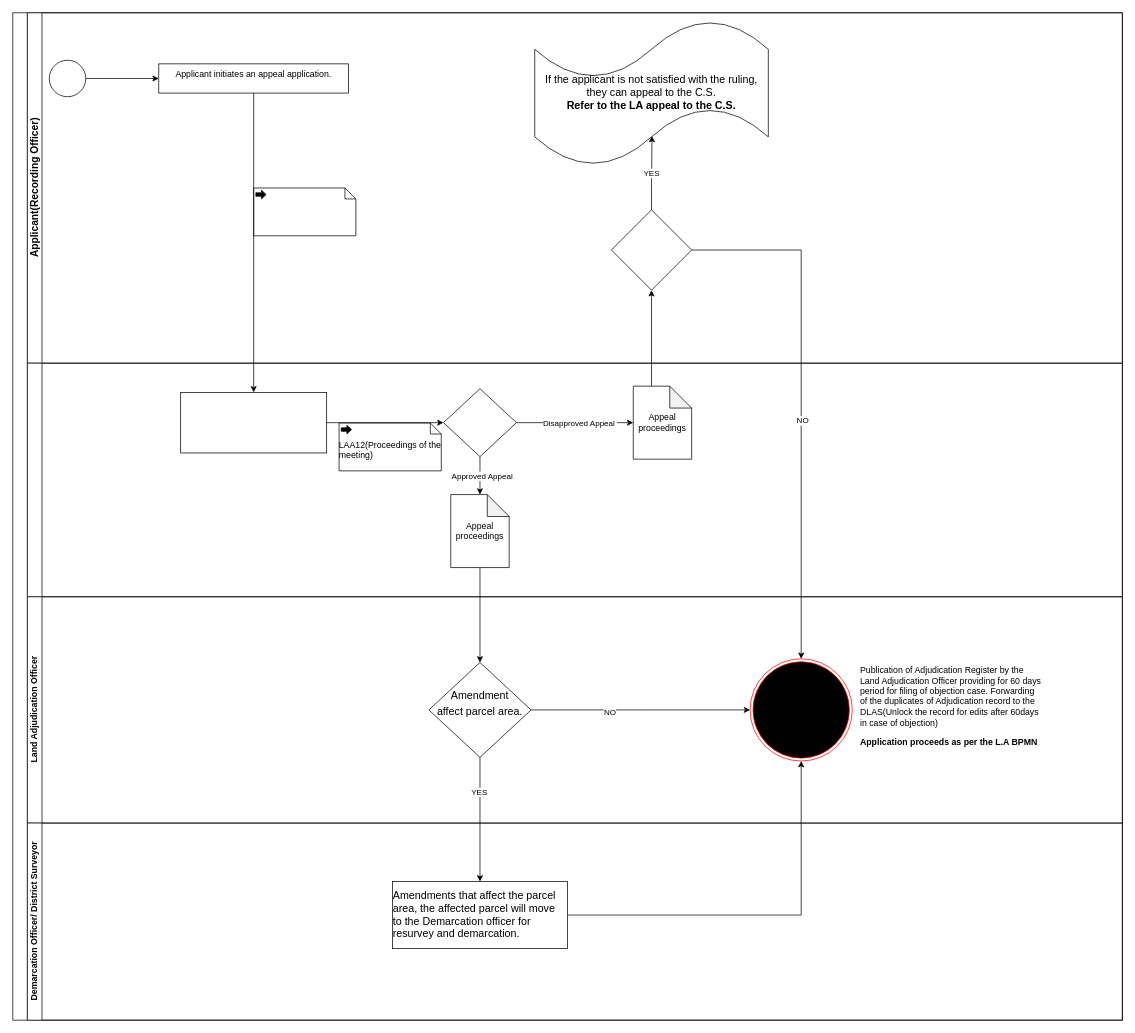
The diagram is 1135 pixels wide and 1033 high, and some of its shapes have lost their labels. The shapes that lost their labels are listed below. From the top down, each one's box as (x1, y1, x2, y2) in pixels, then its label:
(253, 187, 356, 236): LAA11(Claim letter) Receipt
(611, 209, 692, 290): Applicant appeal decision
(180, 392, 327, 453): Hearing of appeals
(443, 388, 516, 457): LAAB Ruling
(27, 362, 1122, 597): Land Adjudication Arbitration Board
